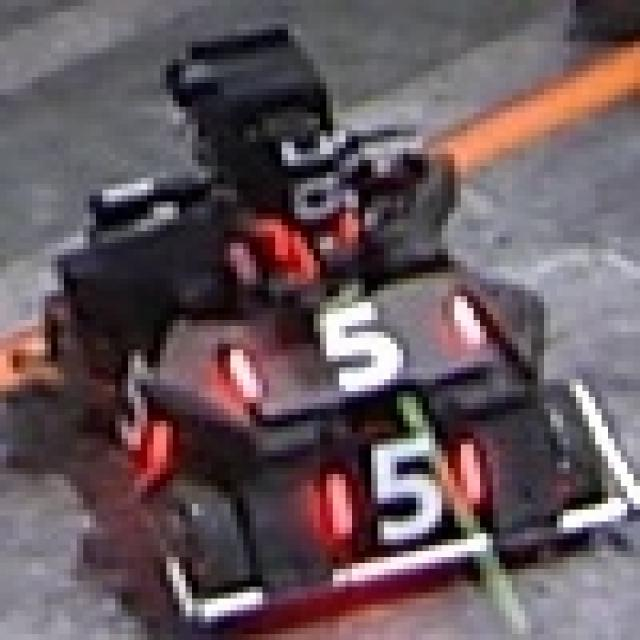R5: (320, 427, 486, 545)
